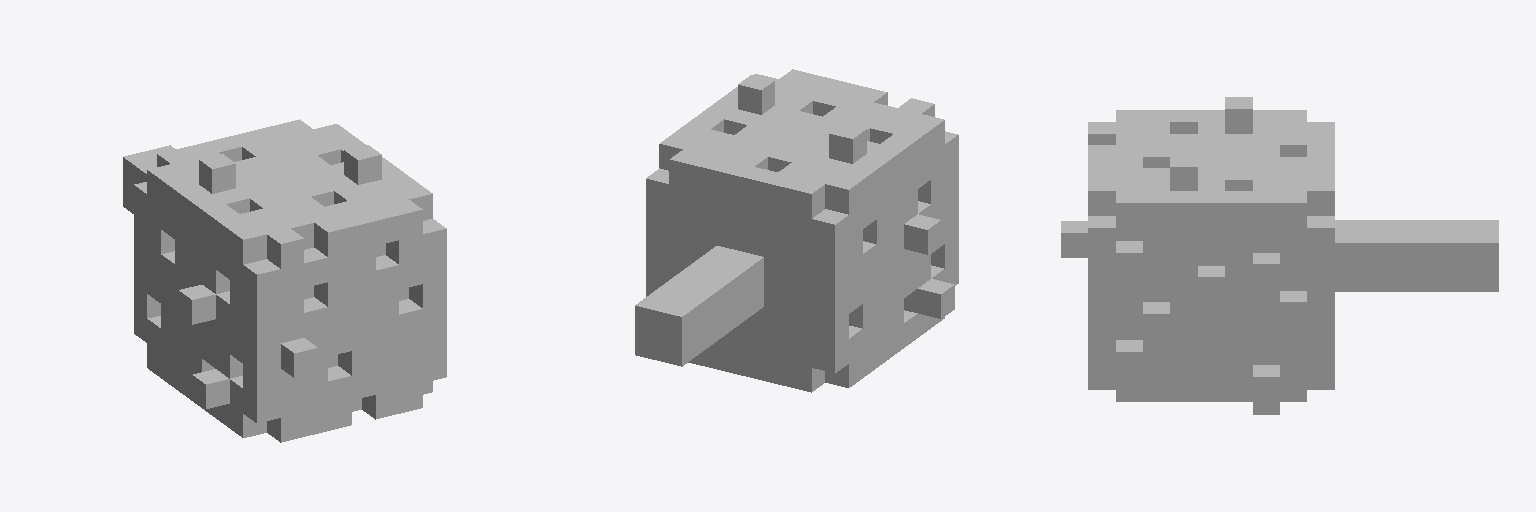
File: tree.obj
3 renders of one model, left to right at view 1: azimuth 30°, elevation 25°; view 2: azimuth 150°, elevation 25°; view 3: azimuth 270°, elevation 25°, orthographic.
Parts seen in each view (by area): view 1: Model; view 2: Model; view 3: Model.
Boxes of the visible parts, <box> form: Model: <box>123,119,446,442</box>; Model: <box>635,69,958,392</box>; Model: <box>1061,97,1498,414</box>.
Bounding box in the file's own units: 1 × 1 × 1.6.